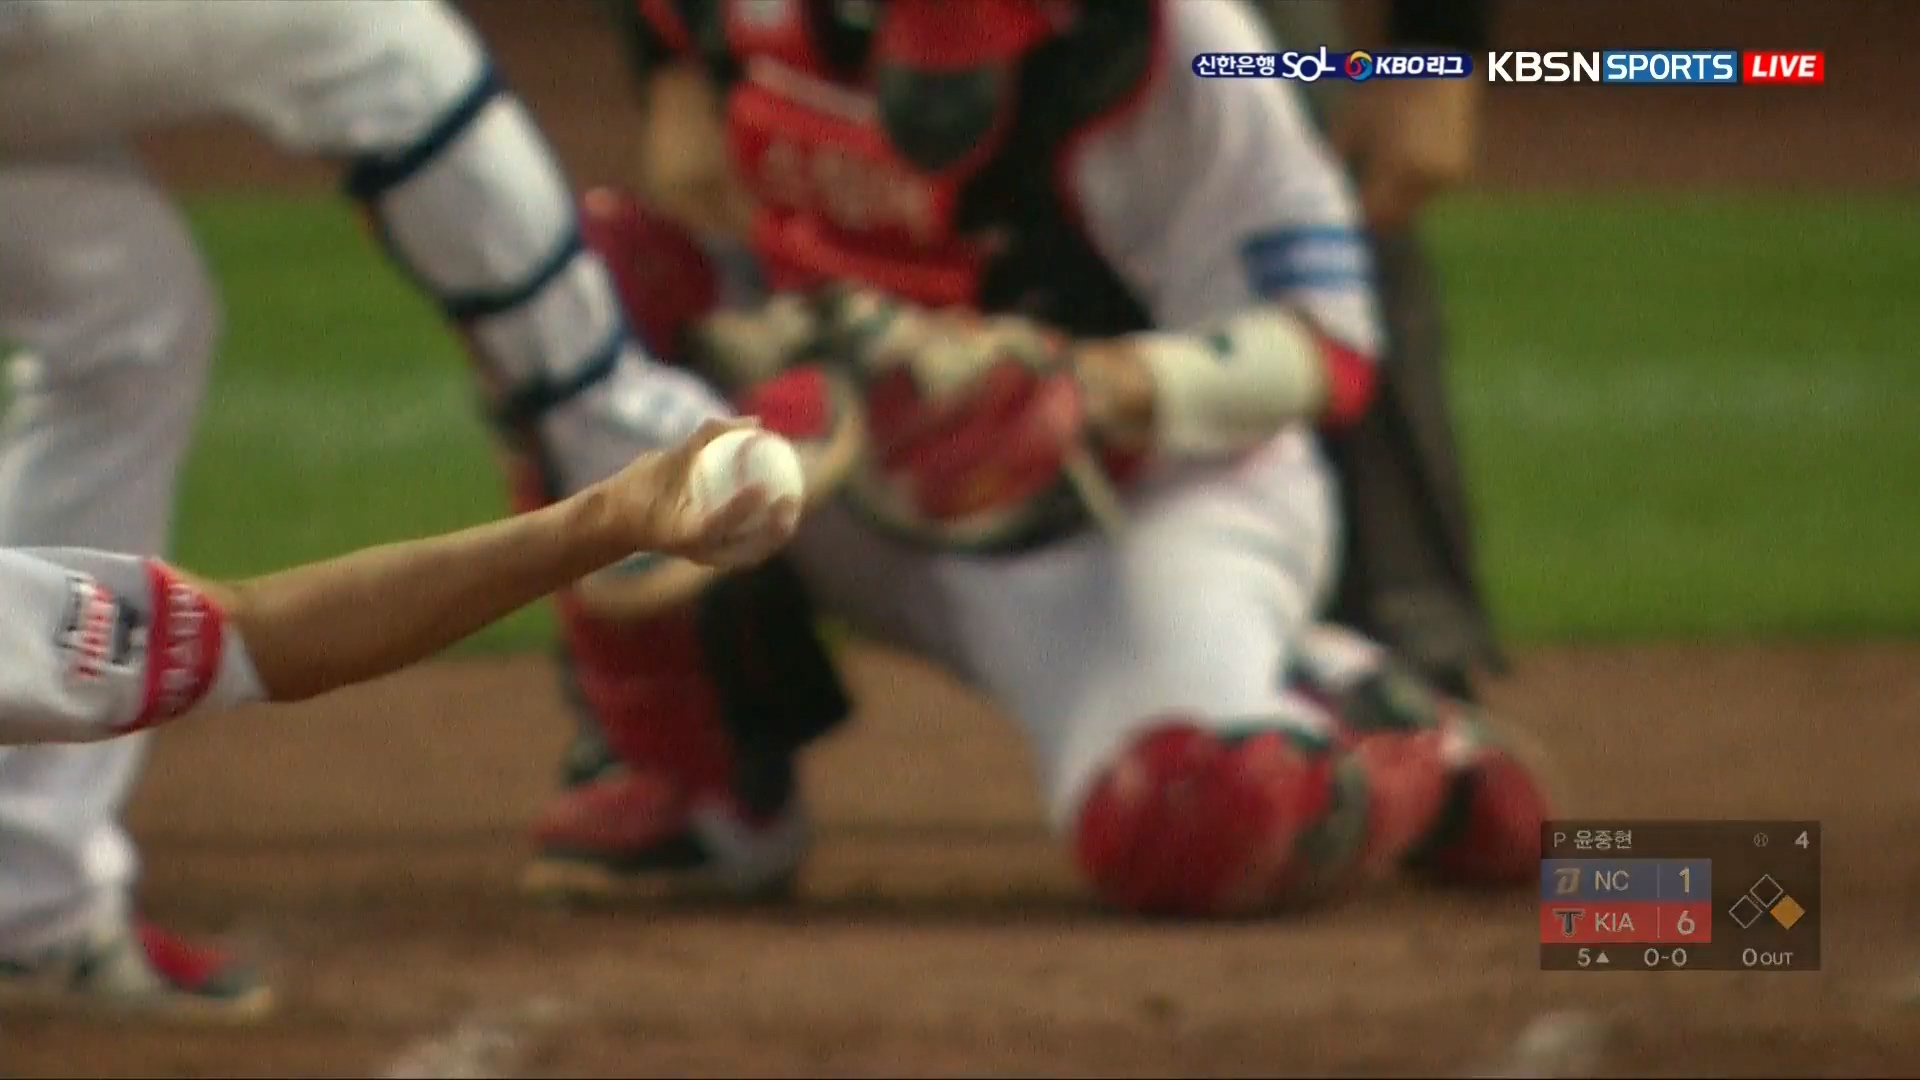zoomin_hand: (219, 411, 808, 705)
